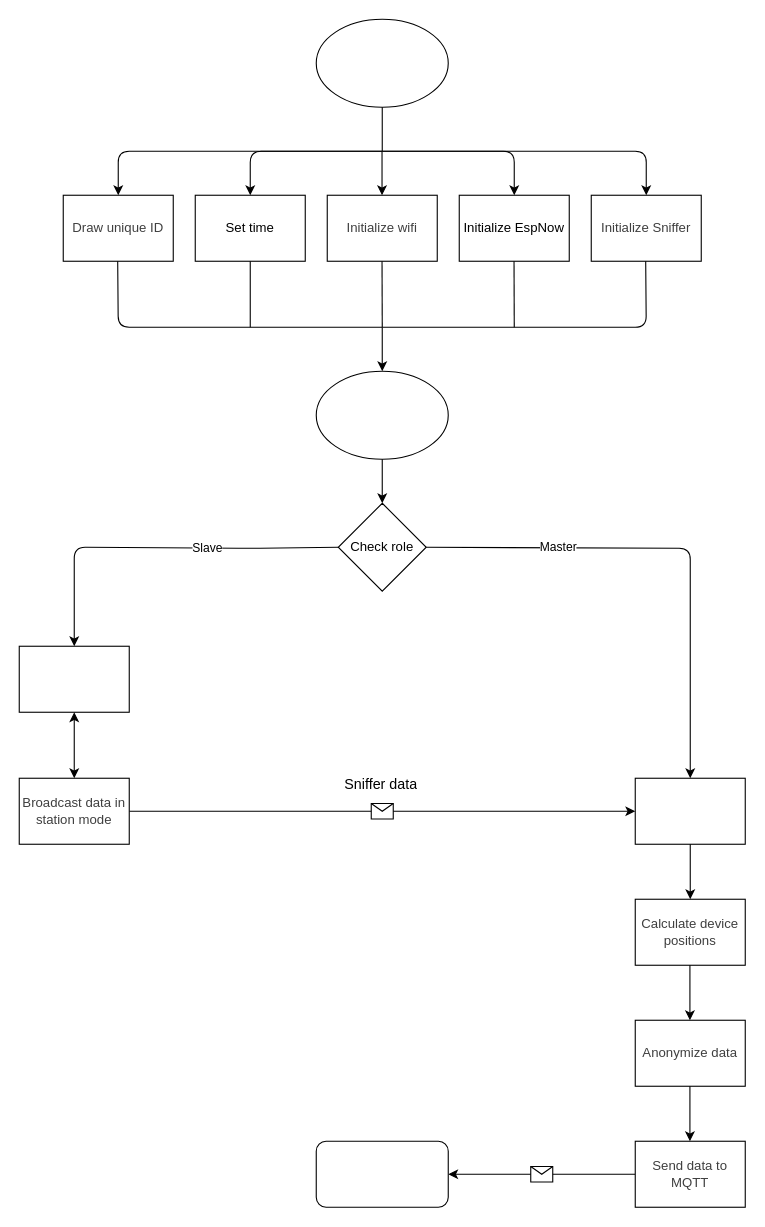
This 765x1227 diagram has some shape labels left out. Here are the shapes that lost their labels. From the top down, the box of each, then its label:
(315, 18, 448, 107): Startup
(315, 370, 448, 459): Loop
(18, 645, 129, 712): Sniff data in promiscous mode
(634, 777, 745, 844): Receive data from slaves
(315, 1140, 448, 1207): MQTT
